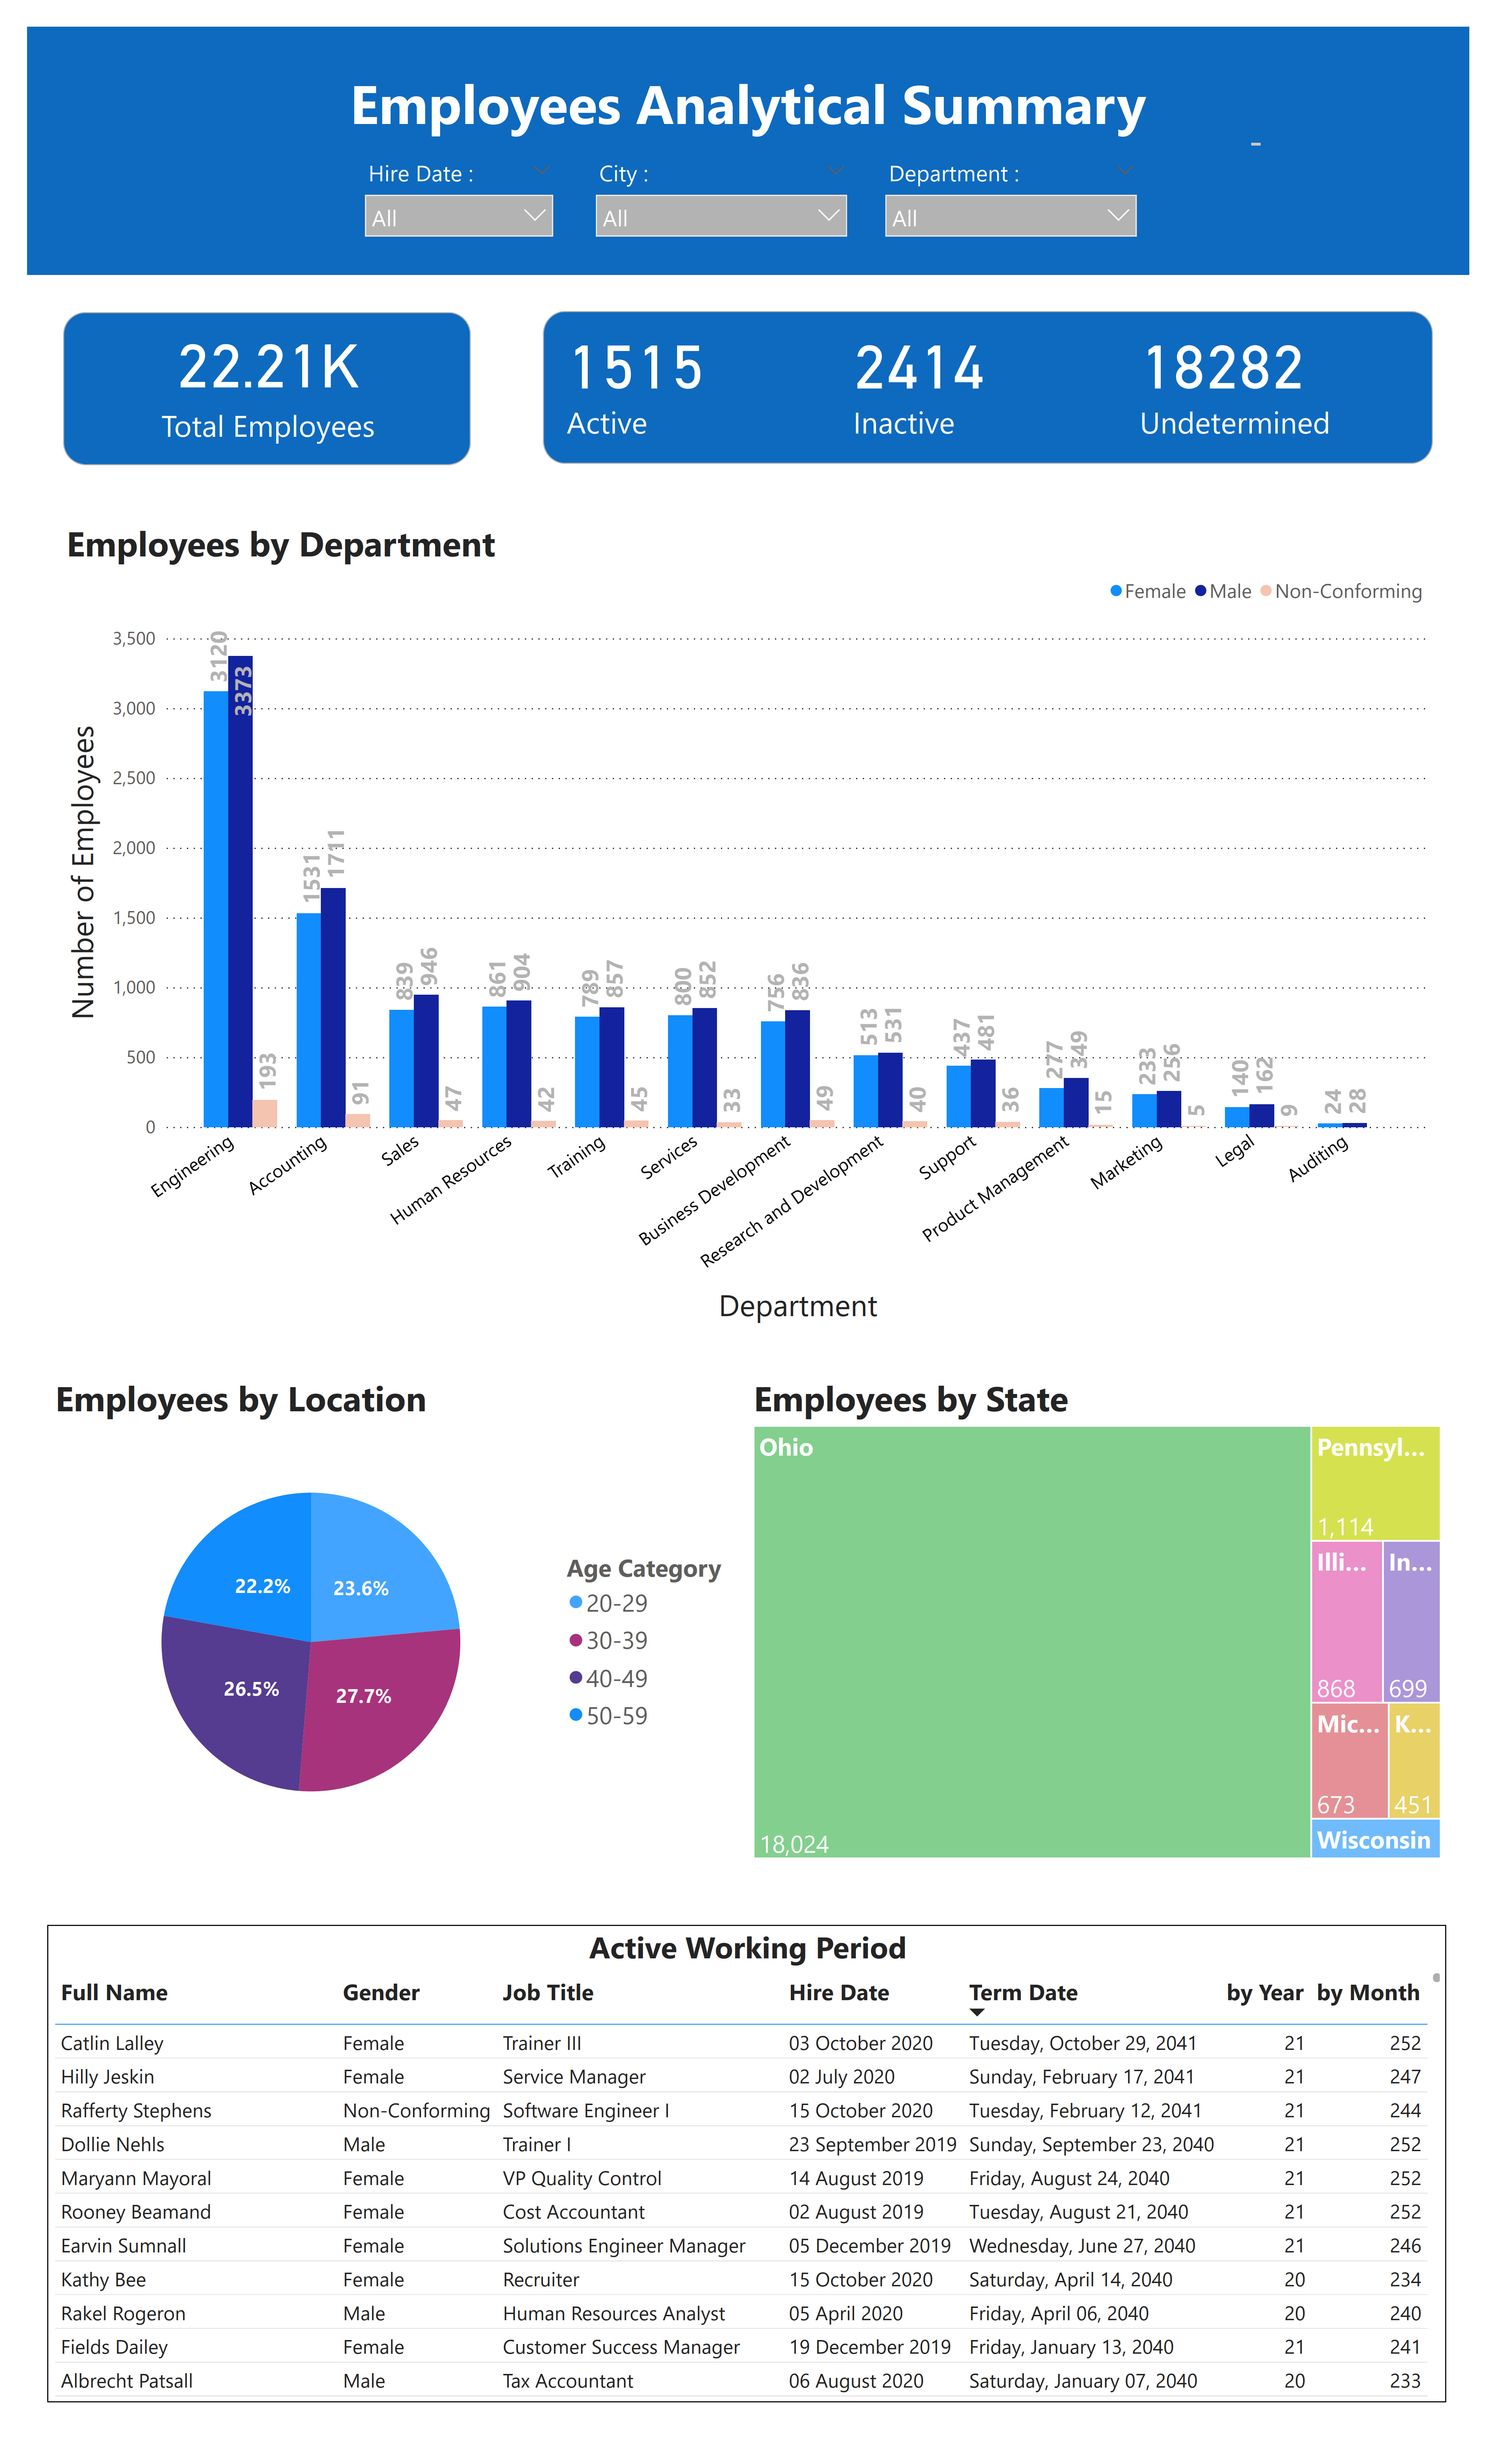

What the dashboard file says about the page in this screenshot:
{"tool":"powerbi","page":{"name":"Page 1","canvas":[1280,2140],"ordinal":0},"visuals":[{"type":"shape","box":[0,0,1280,220],"z":0},{"type":"textbox","title":"Employees Analytical Summary","box":[180,34,920,76],"z":1000},{"type":"slicer","fields":{"Values":["Human Resources.hire_date.Variation.Date Hierarchy.Year","Human Resources.hire_date.Variation.Date Hierarchy.Month"]},"box":[290,110,186.7,86.7],"z":2000},{"type":"card","fields":{"Values":["Human Resources.id"]},"box":[32,252.5,362,136],"z":3000},{"type":"multiRowCard","fields":{"Values":["Human Resources.Active","Human Resources.Inactive","Human Resources.Undetermined"]},"box":[458,251.8,790,136],"z":4000},{"type":"slicer","fields":{"Values":["Human Resources.location_city"]},"box":[495,110,243.3,86.7],"z":5000},{"type":"clusteredColumnChart","title":"Employees by Department","fields":{"Category":["Human Resources.department"],"Y":["Human Resources.id"],"Series":["Human Resources.gender"]},"box":[30,436.7,1220,720],"z":6000},{"type":"pieChart","title":"Employees by Location","fields":{"Y":["Human Resources.id"],"Category":["Human Resources.age category"]},"box":[20,1195.5,620,435],"z":7000},{"type":"treemap","title":"Employees by State","fields":{"Group":["Human Resources.location_state"],"Values":["Human Resources.id"]},"box":[640,1195.5,620,435],"z":8000},{"type":"tableEx","title":"Active Working Period","fields":{"Values":["Human Resources.Full Name","Human Resources.gender","Human Resources.jobtitle","Human Resources.hire_date","Human Resources.termdate","Human Resources.Year Diffs","Human Resources.Month Diffs"]},"box":[18,1684.5,1242,424],"z":9000},{"type":"slicer","fields":{"Values":["Human Resources.department"]},"box":[751.7,110,243.3,86.7],"z":10000}]}

Visuals, with their boxes on the page's 1280x2140 design canvas (x1, y1, x2, y2). These are canvas units, not pixel positions in the 1496x2464 screenshot, which may show the page scaled, cropped or inside an application window:
shape: <bbox>0, 0, 1280, 220</bbox>
"Employees Analytical Summary" textbox: <bbox>180, 34, 1100, 110</bbox>
slicer - Human Resources.hire_date.Variation.Date Hierarchy.Year x Human Resources.hire_date.Variation.Date Hierarchy.Month: <bbox>290, 110, 477, 197</bbox>
card - Human Resources.id: <bbox>32, 252, 394, 388</bbox>
multiRowCard - Human Resources.Active x Human Resources.Inactive: <bbox>458, 252, 1248, 388</bbox>
slicer - Human Resources.location_city: <bbox>495, 110, 738, 197</bbox>
"Employees by Department" clusteredColumnChart: <bbox>30, 437, 1250, 1157</bbox>
"Employees by Location" pieChart: <bbox>20, 1196, 640, 1630</bbox>
"Employees by State" treemap: <bbox>640, 1196, 1260, 1630</bbox>
"Active Working Period" tableEx: <bbox>18, 1684, 1260, 2108</bbox>
slicer - Human Resources.department: <bbox>752, 110, 995, 197</bbox>
